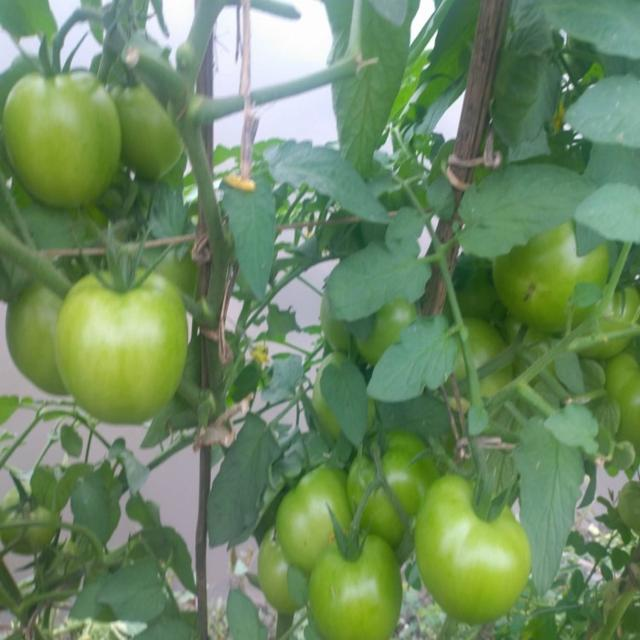tomato: (61, 263, 194, 419), (411, 475, 532, 620), (11, 67, 112, 205), (493, 218, 593, 321), (311, 540, 407, 640), (353, 433, 428, 549), (7, 267, 76, 390), (112, 69, 182, 175), (274, 464, 352, 558), (256, 532, 323, 616), (453, 320, 505, 400), (573, 286, 638, 345), (601, 357, 640, 445), (1, 483, 53, 547), (347, 295, 404, 344), (612, 477, 640, 537)
